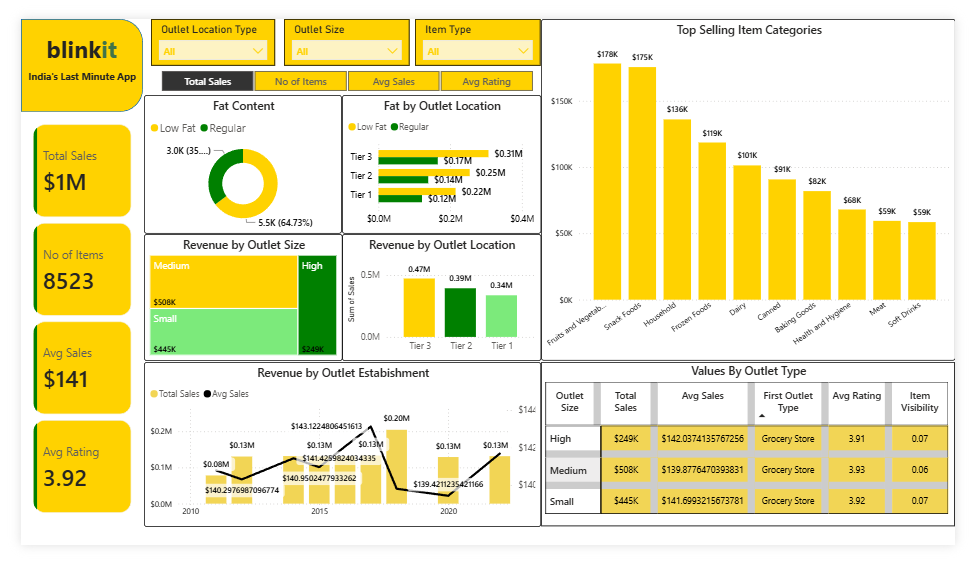

Layout of this report page (visuals, bound fields, positions):
{"tool":"powerbi","page":{"name":"Page 1","canvas":[1280,720],"ordinal":0},"visuals":[{"type":"slicer","title":"Outlier","fields":{"Values":["BlinkIT Grocery Data.Outlet Location Type"]},"box":[178,0,170,64],"z":0},{"type":"slicer","fields":{"Values":["BlinkIT Grocery Data.Outlet Size"]},"box":[360,0,172,64],"z":1000},{"type":"slicer","fields":{"Values":["BlinkIT Grocery Data.Item Type"]},"box":[540,0,172,64],"z":2000},{"type":"shape","box":[0,0,167.1,127.4],"z":3000},{"type":"textbox","box":[8.8,13.8,150,60],"z":4000},{"type":"textbox","box":[0,63.8,167.5,36.2],"z":5000},{"type":"cardVisual","fields":{"Data":["BlinkIT Grocery Data.Total Sales","BlinkIT Grocery Data.No of Items","BlinkIT Grocery Data.Avg Sales","BlinkIT Grocery Data.Avg Rating"]},"box":[0,127.4,168.5,568.5],"z":6000},{"type":"slicer","fields":{"Values":["Metrics.Metrics"]},"box":[167.5,65,557.5,40],"z":7000},{"type":"donutChart","title":"Fat Content","fields":{"Y":["BlinkIT Grocery Data.No of Items"],"Category":["BlinkIT Grocery Data.Item Fat Content"]},"box":[168.5,104.1,271.2,190.4],"z":8000},{"type":"clusteredBarChart","title":"Fat by Outlet Location","fields":{"Y":["BlinkIT Grocery Data.Total Sales"],"Category":["BlinkIT Grocery Data.Outlet Location Type"],"Series":["BlinkIT Grocery Data.Item Fat Content"]},"box":[439.7,104.1,272.6,190.4],"z":9000},{"type":"treemap","title":"Revenue by Outlet Size","fields":{"Values":["BlinkIT Grocery Data.Total Sales"],"Group":["BlinkIT Grocery Data.Outlet Size"]},"box":[168,294,272,174],"z":10000},{"type":"clusteredColumnChart","title":"Revenue by Outlet Location","fields":{"Category":["BlinkIT Grocery Data.Outlet Location Type"],"Y":["Sum(BlinkIT Grocery Data.Sales)"]},"box":[439.7,294.5,272.6,174],"z":11000},{"type":"clusteredColumnChart","title":"Top Selling Item Categories","fields":{"Y":["BlinkIT Grocery Data.Total Sales"],"Category":["BlinkIT Grocery Data.Item Type"]},"box":[712.3,0,568.5,468.5],"z":12000},{"type":"lineClusteredColumnComboChart","title":"Revenue by Outlet Estabishment","fields":{"Y2":["BlinkIT Grocery Data.Avg Sales"],"Y":["BlinkIT Grocery Data.Total Sales"],"Category":["BlinkIT Grocery Data.Outlet Establishment Year"]},"box":[168.5,469.9,543.8,226],"z":13000},{"type":"pivotTable","title":"Values By Outlet Type","fields":{"Rows":["BlinkIT Grocery Data.Outlet Size"],"Values":["BlinkIT Grocery Data.Total Sales","BlinkIT Grocery Data.Avg Sales","Min(BlinkIT Grocery Data.Outlet Type)","BlinkIT Grocery Data.Avg Rating","Avg(BlinkIT Grocery Data.Item Visibility)"]},"box":[712.3,469.9,567.1,224.7],"z":14000}]}

Visuals, with their boxes in screenshot pixels (x1, y1, x2, y2):
"Outlier" slicer: crop(150, 15, 274, 62)
slicer - BlinkIT Grocery Data.Outlet Size: crop(282, 15, 407, 62)
slicer - BlinkIT Grocery Data.Item Type: crop(413, 15, 538, 62)
shape: crop(20, 15, 142, 108)
textbox: crop(27, 25, 136, 69)
textbox: crop(20, 62, 142, 88)
cardVisual - BlinkIT Grocery Data.Total Sales x BlinkIT Grocery Data.No of Items: crop(20, 108, 143, 522)
slicer - Metrics.Metrics: crop(142, 63, 548, 92)
"Fat Content" donutChart: crop(143, 91, 340, 230)
"Fat by Outlet Location" clusteredBarChart: crop(340, 91, 539, 230)
"Revenue by Outlet Size" treemap: crop(143, 229, 341, 356)
"Revenue by Outlet Location" clusteredColumnChart: crop(340, 230, 539, 356)
"Top Selling Item Categories" clusteredColumnChart: crop(539, 15, 952, 356)
"Revenue by Outlet Estabishment" lineClusteredColumnComboChart: crop(143, 357, 539, 522)
"Values By Outlet Type" pivotTable: crop(539, 357, 951, 521)
